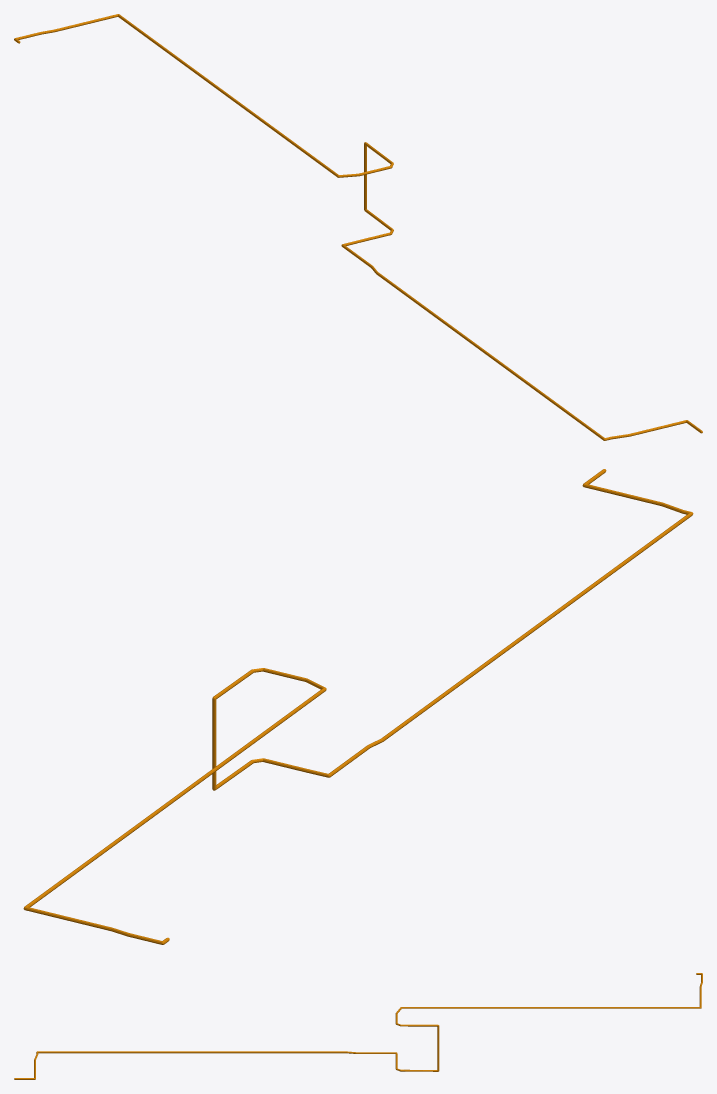
3 renders of one model, top to bottom at view 1: azimuth 30°, elevation 25°; view 2: azimuth 150°, elevation 25°; view 3: azimuth 270°, elevation 25°, orthographic. The views are drawn at different scales.
Size of the model in its own units: 1440 by 520 by 6908.
